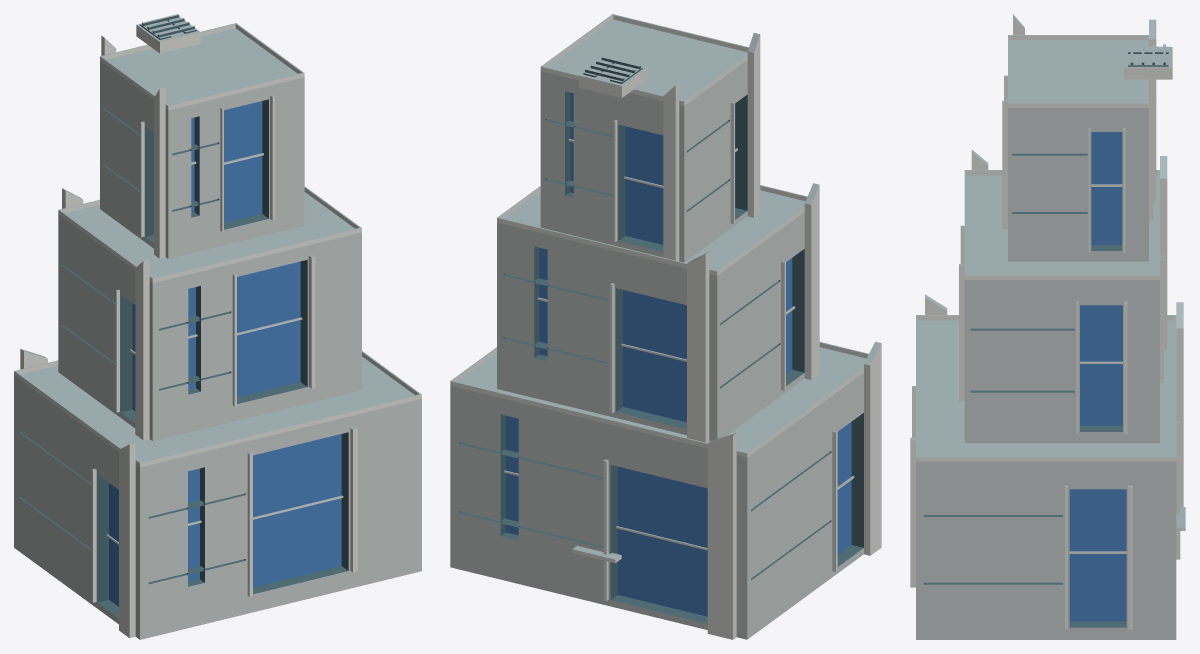
Rendered from 06_Staffelturm.obj.
3 views of the same model, side by side, from view 1: azimuth 30°, elevation 25°; view 2: azimuth 150°, elevation 25°; view 3: azimuth 270°, elevation 25° (orthographic). The views are drawn at different scales.
Size of the model in its own units: 0.6118 by 1 by 0.4826.
